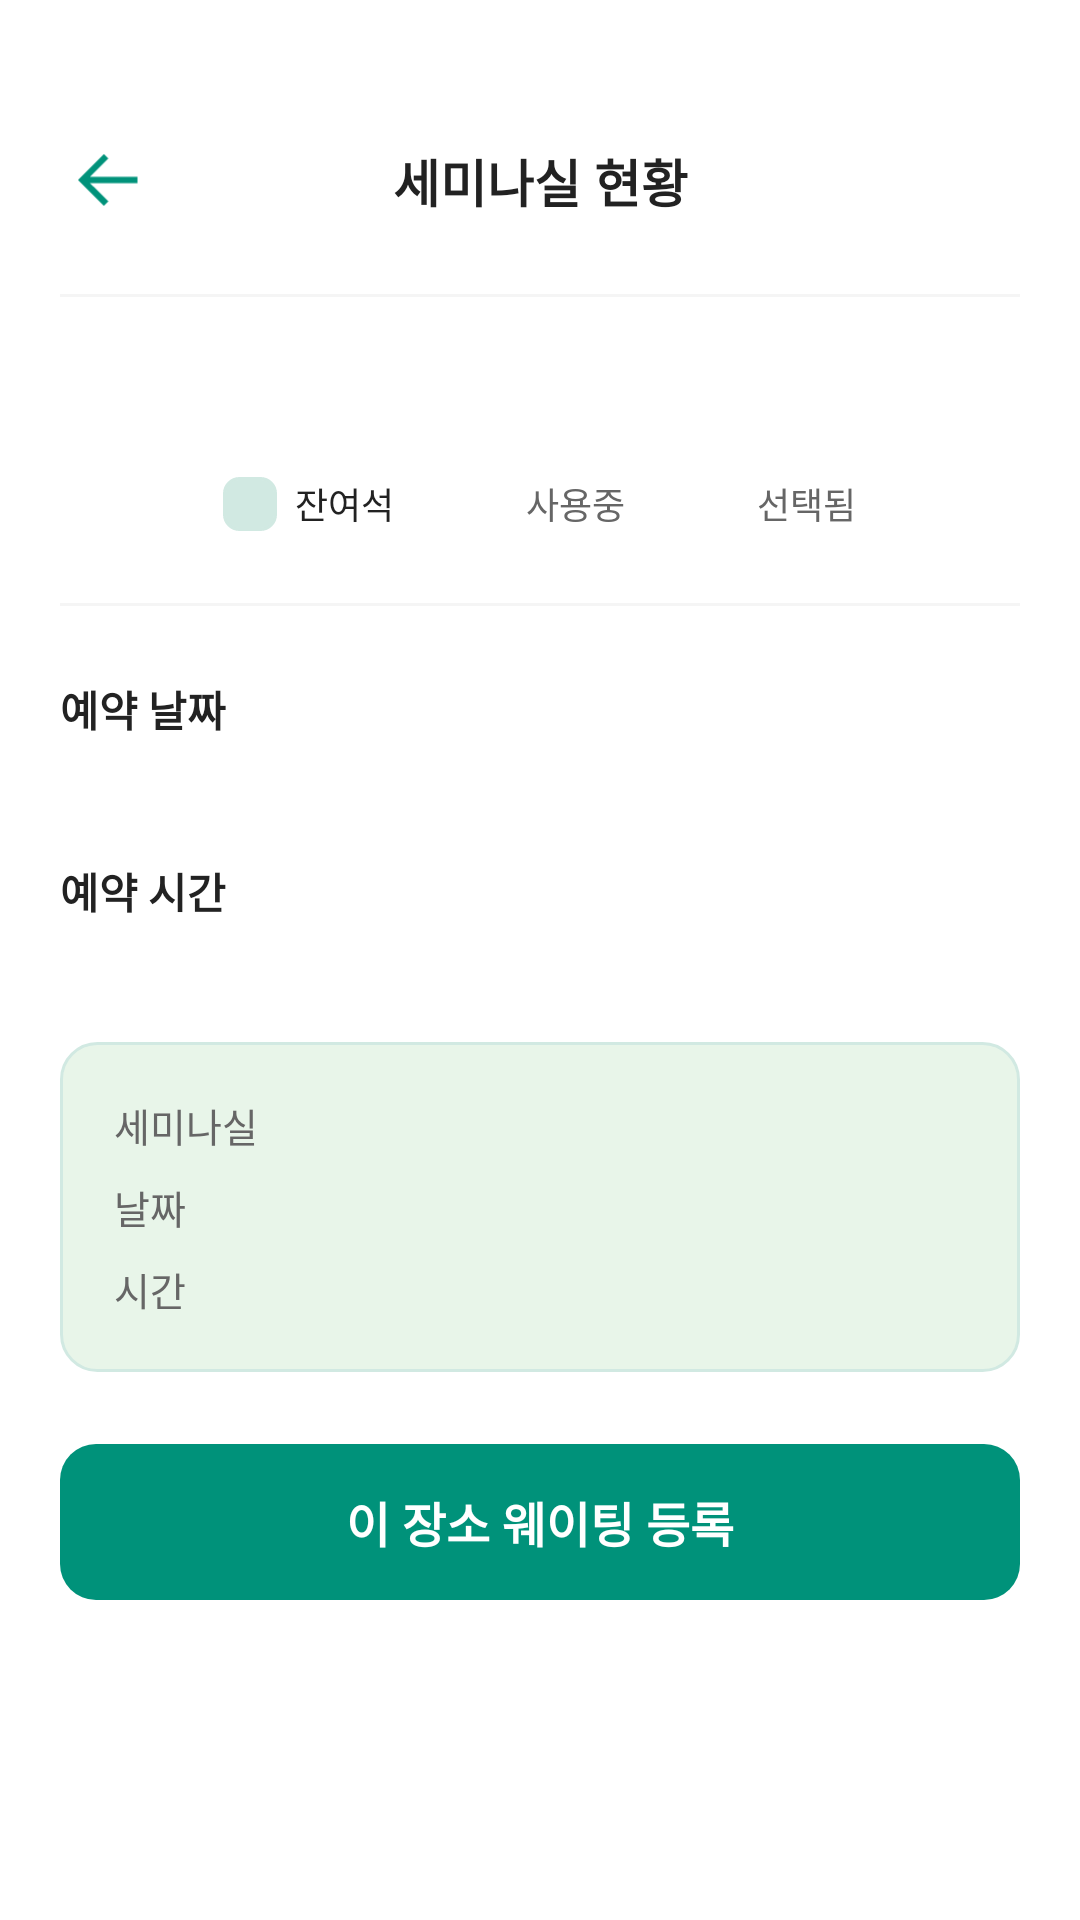

Where to tap for icons on this 1080w x 1920h app screen, as point (x, y):
back: point (108, 180)
